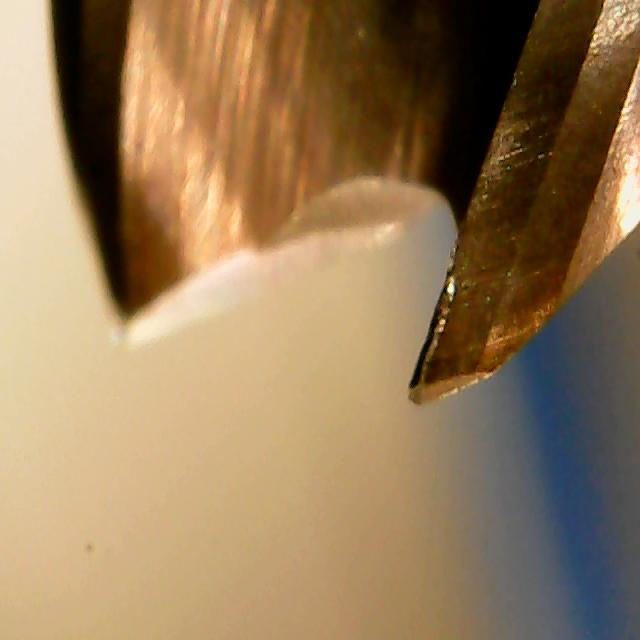Tool-wear-class-1: (388, 194, 524, 414)
